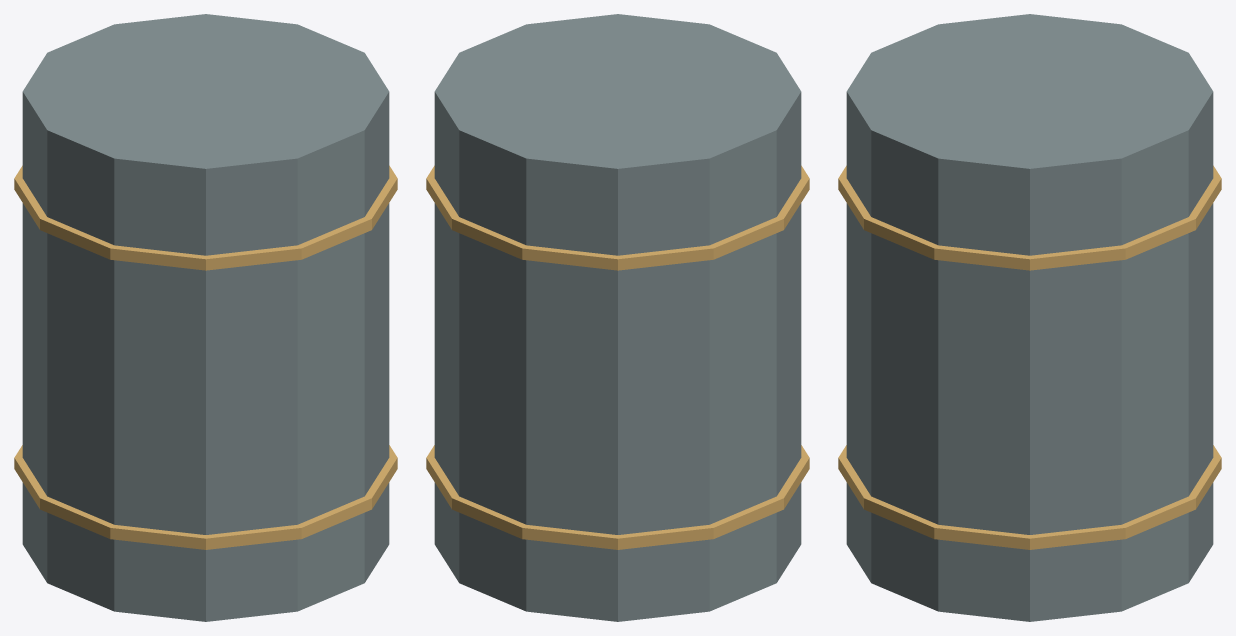
Rendered from tank.glb.
3 views of the same model, side by side, from view 1: azimuth 30°, elevation 25°; view 2: azimuth 150°, elevation 25°; view 3: azimuth 270°, elevation 25° (orthographic).
Size of the model in its own units: 4.6 by 6 by 4.6.
